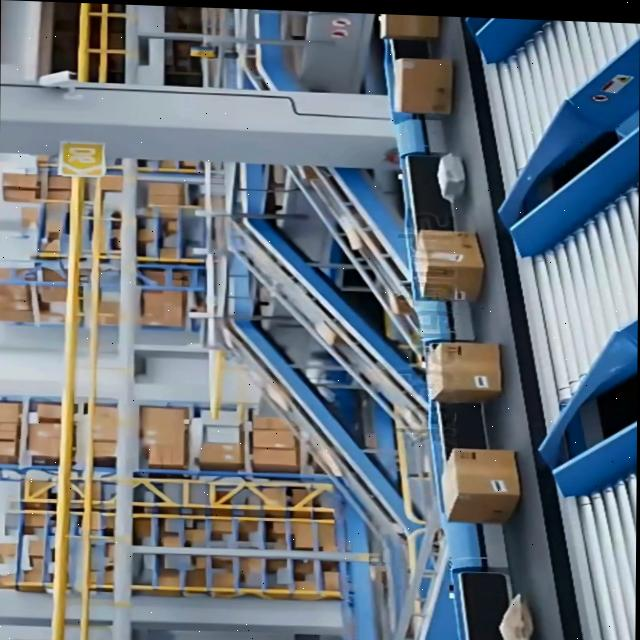product 1: (438, 447, 521, 526), (412, 228, 484, 302), (423, 340, 502, 405), (390, 56, 453, 115), (376, 14, 439, 41)
product 2: (495, 593, 536, 640), (434, 152, 465, 200)
